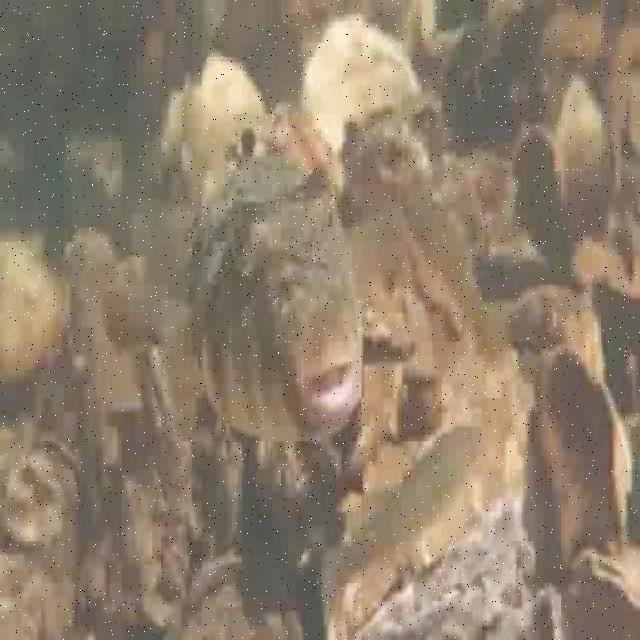Oyster-Closed: (474, 286, 608, 510), (350, 514, 563, 640), (307, 16, 420, 146), (157, 554, 303, 640), (182, 55, 265, 181), (4, 434, 81, 558), (0, 229, 62, 371), (550, 76, 601, 218), (348, 123, 428, 206), (568, 548, 640, 640), (155, 94, 186, 181)
Oyster-Open: (401, 252, 470, 357), (232, 125, 266, 165)
